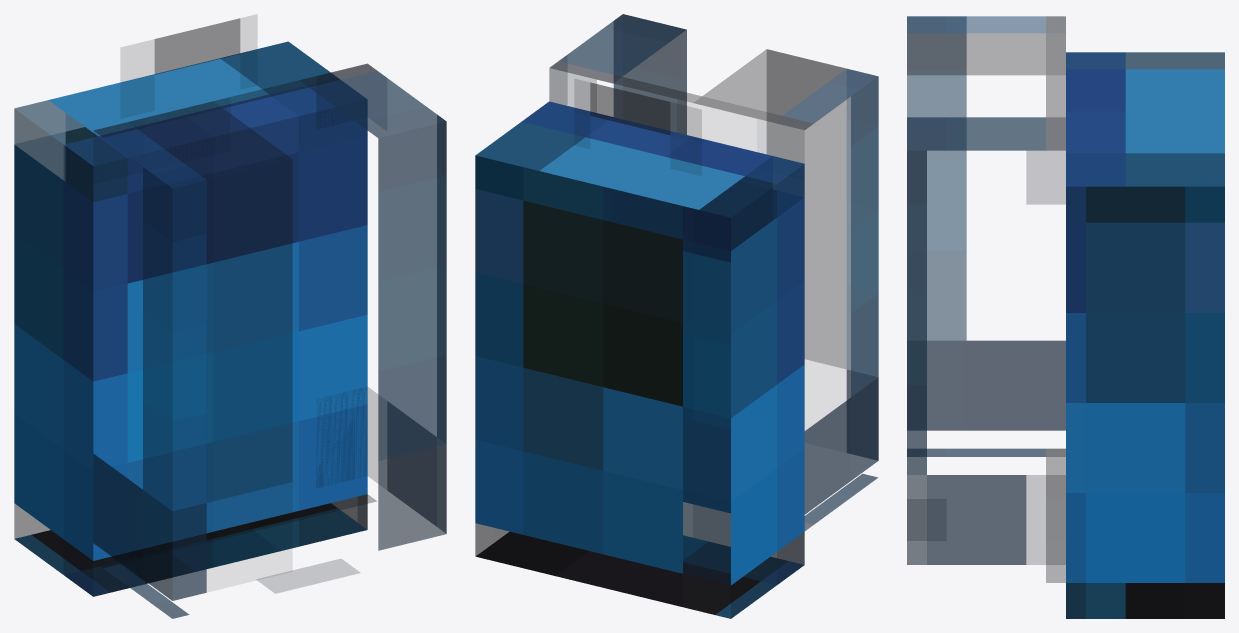
File: sl_gamer_backpack.glb
3 renders of one model, left to right at view 1: azimuth 30°, elevation 25°; view 2: azimuth 150°, elevation 25°; view 3: azimuth 270°, elevation 25°, orthographic. The views are drawn at different scales.
Parts seen in each view (by area): view 1: bb_gamer_backpack; view 2: bb_gamer_backpack; view 3: bb_gamer_backpack.
Boxes of the visible parts, bbox=[...] form: bb_gamer_backpack: bbox=[14, 15, 446, 618]; bb_gamer_backpack: bbox=[475, 14, 878, 618]; bb_gamer_backpack: bbox=[907, 16, 1224, 618].
Size of the model in its own units: 0.5 by 0.875 by 0.5.
1 material, 1 textured.
